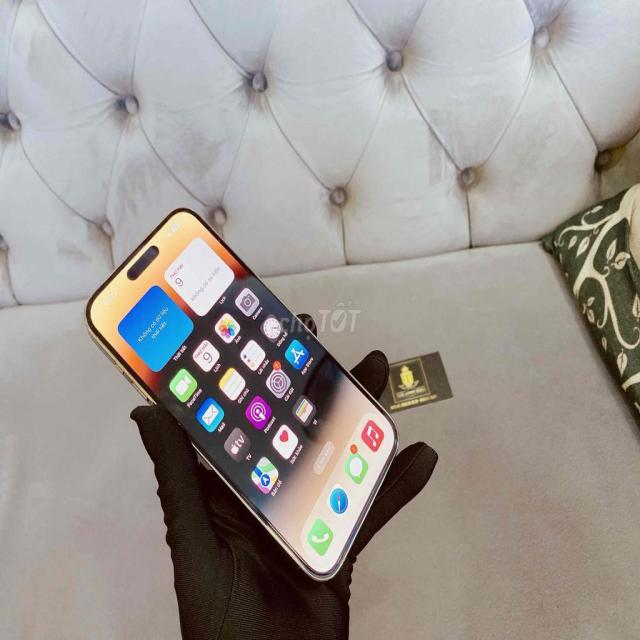gen_14: (86, 209, 397, 580)
